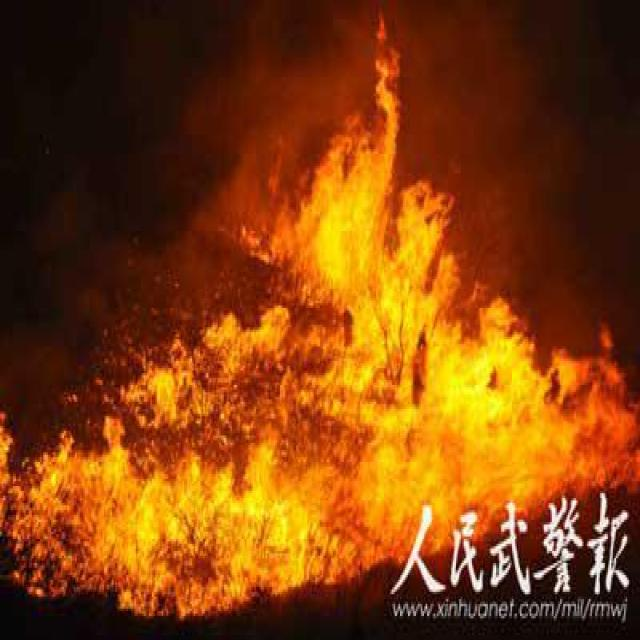fire: (274, 24, 634, 545), (2, 291, 308, 606)
